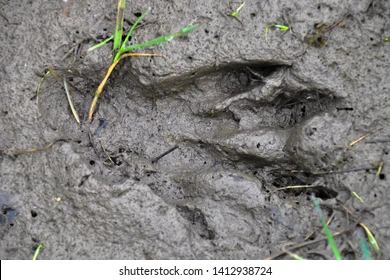beaver: (63, 49, 348, 221)
